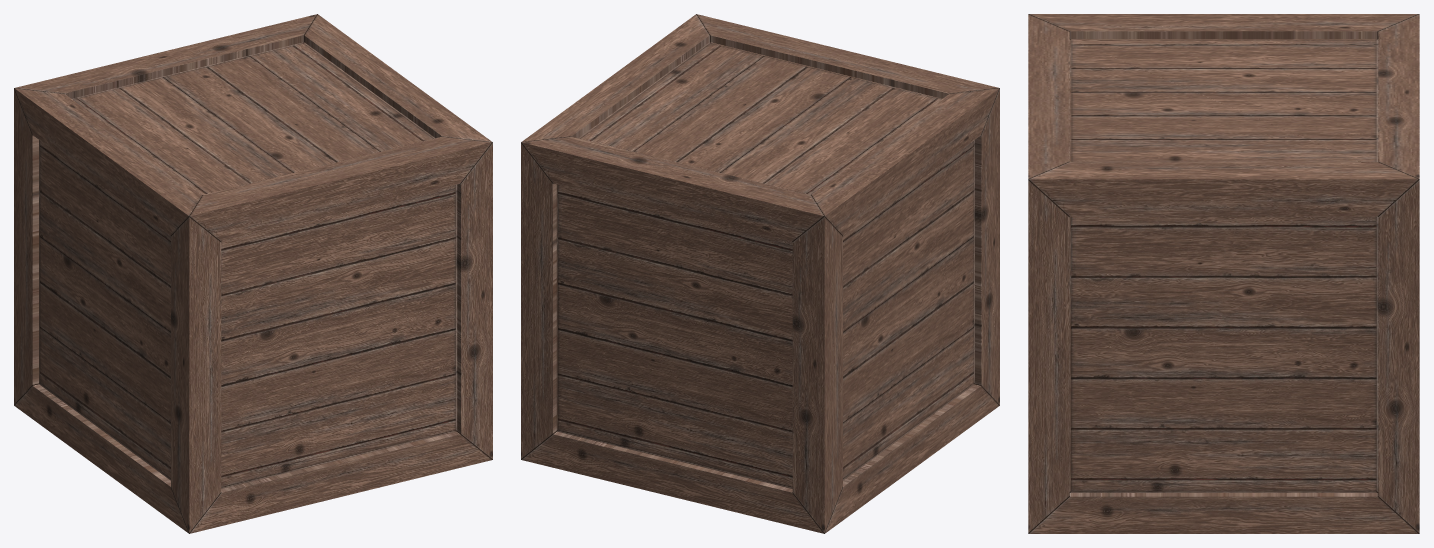
The model's file is crate.fbx.
3 renders of one model, left to right at view 1: azimuth 30°, elevation 25°; view 2: azimuth 150°, elevation 25°; view 3: azimuth 270°, elevation 25°, orthographic. The views are drawn at different scales.
Visible parts, largest first — view 1: Cube; view 2: Cube; view 3: Cube.
Boxes of the visible parts, x1,y1,x2,y2 form: Cube: [14, 14, 492, 533]; Cube: [521, 14, 999, 533]; Cube: [1028, 14, 1419, 533].
Bounding box in the file's own units: 200 × 200 × 200.
1 material, 1 textured.
